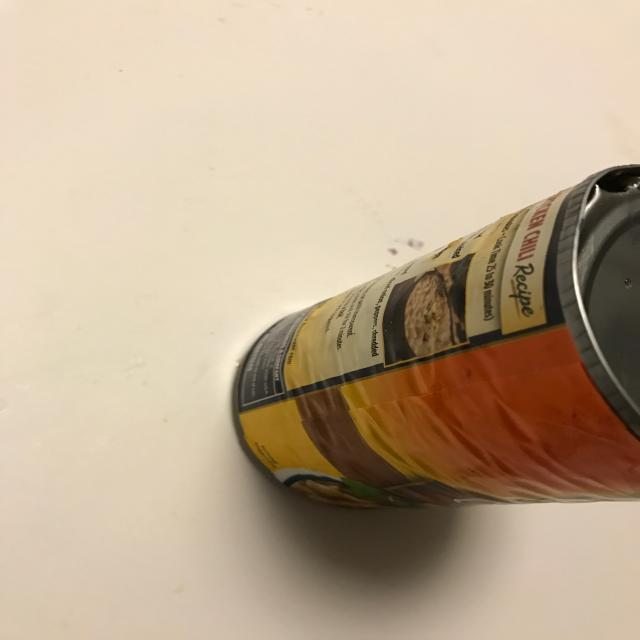metal: (233, 164, 640, 513)
